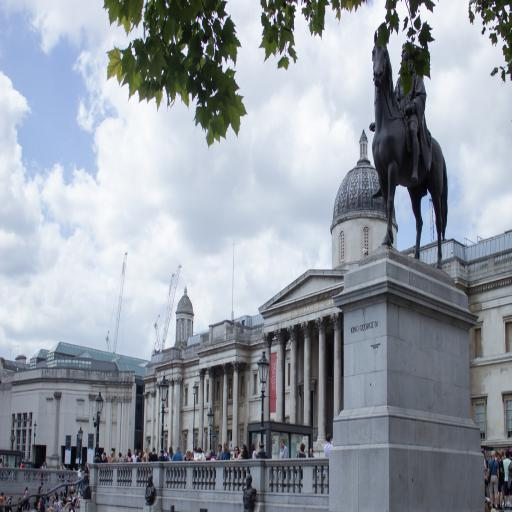horse: (370, 26, 450, 270)
